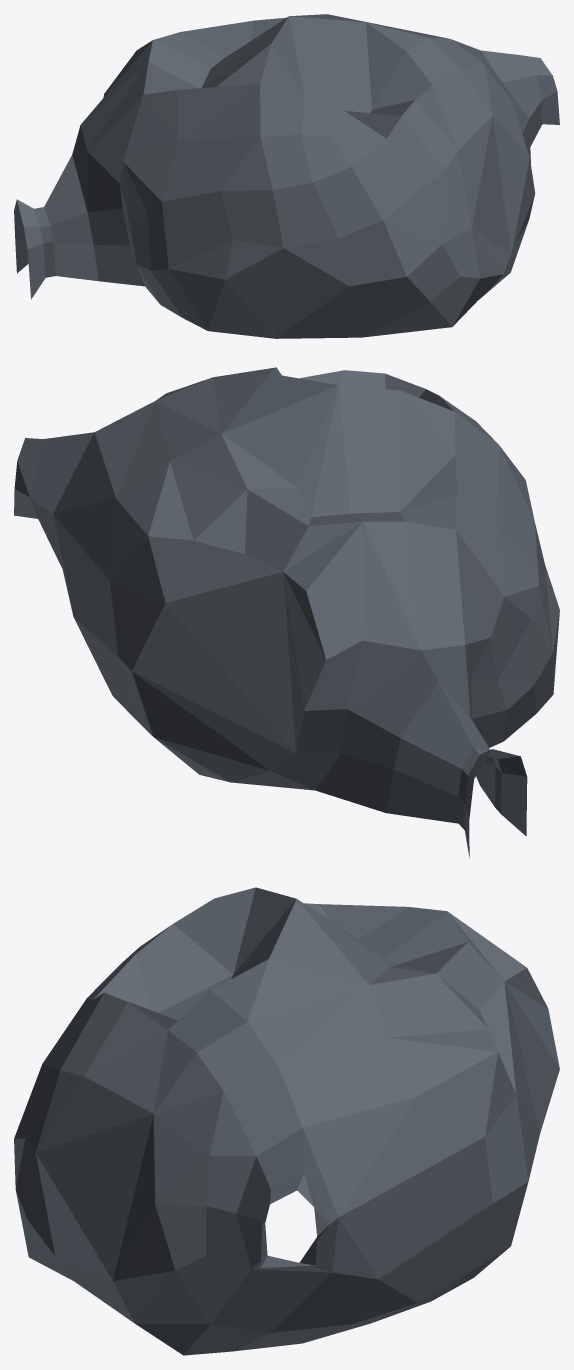
Rendered from Dome-2exits-07.fbx.
3 renders of one model, top to bottom at view 1: azimuth 30°, elevation 25°; view 2: azimuth 150°, elevation 25°; view 3: azimuth 270°, elevation 25°, orthographic. The views are drawn at different scales.
Visible parts, largest first — view 1: Dome-2exits-07; view 2: Dome-2exits-07; view 3: Dome-2exits-07.
Part boxes in pixels (box(x1,y1,x2,y2)): Dome-2exits-07: box(14, 14, 559, 338); Dome-2exits-07: box(14, 367, 559, 857); Dome-2exits-07: box(14, 887, 559, 1355).
Size of the model in its own units: 1746 by 2205 by 1268.
